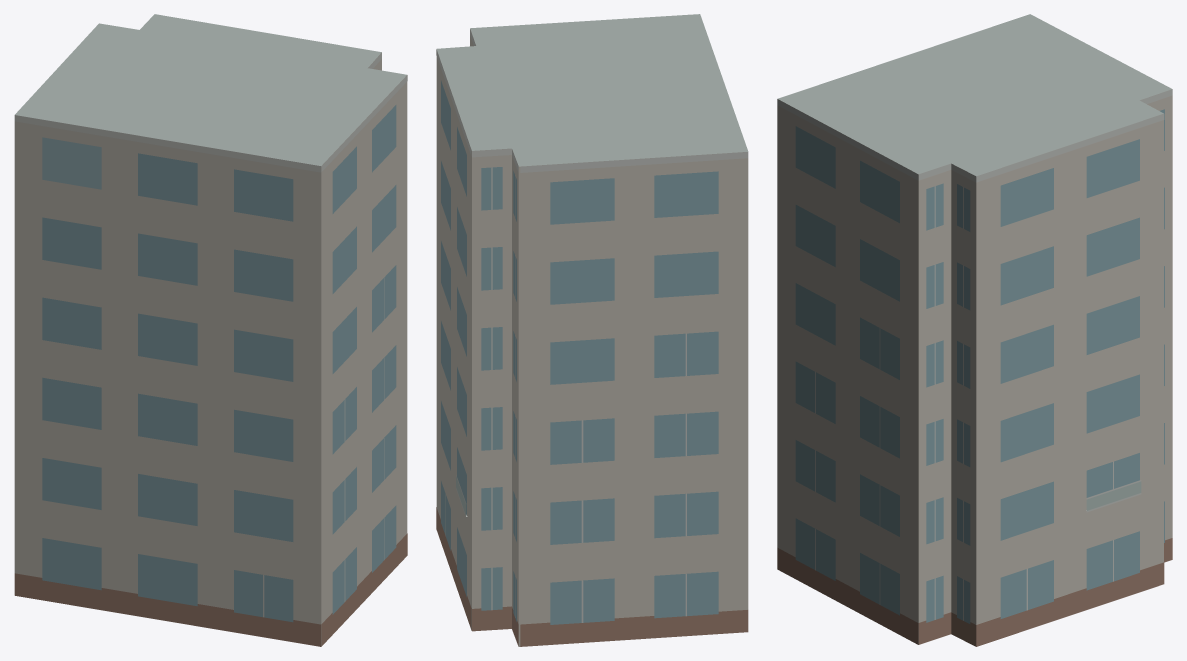
The model's file is survey-upis-32913548.glb.
The picture shows the model from 3 angles, left to right: view 1: azimuth 30°, elevation 25°; view 2: azimuth 150°, elevation 25°; view 3: azimuth 270°, elevation 25°; orthographic projection. The views are drawn at different scales.
Parts seen in each view (by area): view 1: survey-upis-32913548.tmp; view 2: survey-upis-32913548.tmp; view 3: survey-upis-32913548.tmp.
Part boxes in pixels (x1,y1,x2,y2): survey-upis-32913548.tmp: (14, 14, 407, 646); survey-upis-32913548.tmp: (436, 14, 748, 646); survey-upis-32913548.tmp: (777, 14, 1172, 646).
Bounding box in the file's own units: 13.43 × 18.15 × 13.82.
